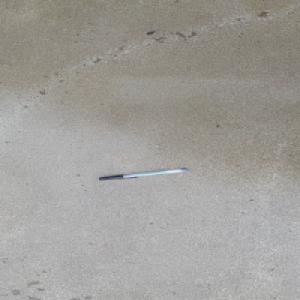Pen: (98, 167, 189, 181)
